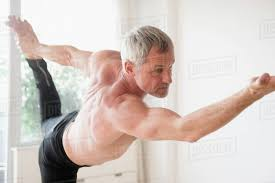white_male: (125, 42, 181, 101)
